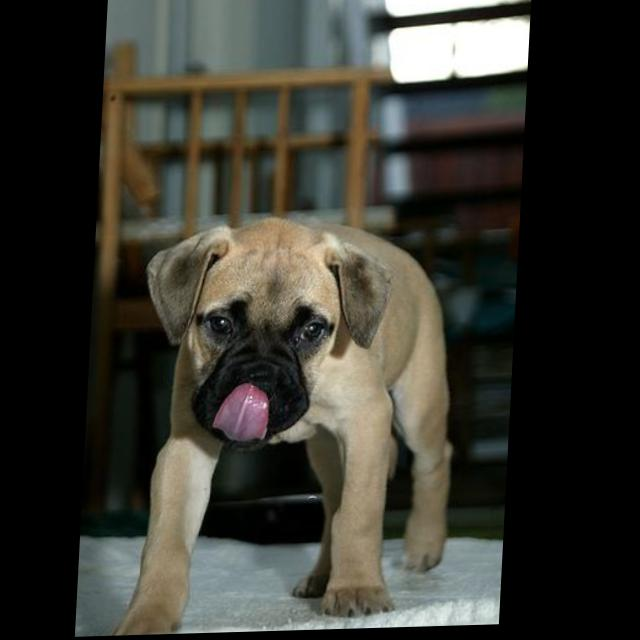bullmastiff: (110, 212, 471, 637)
